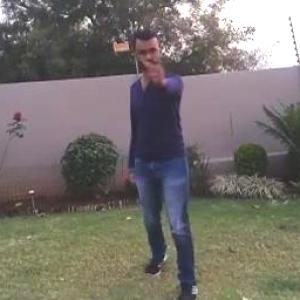takeoff-hand: (141, 60, 172, 91)
